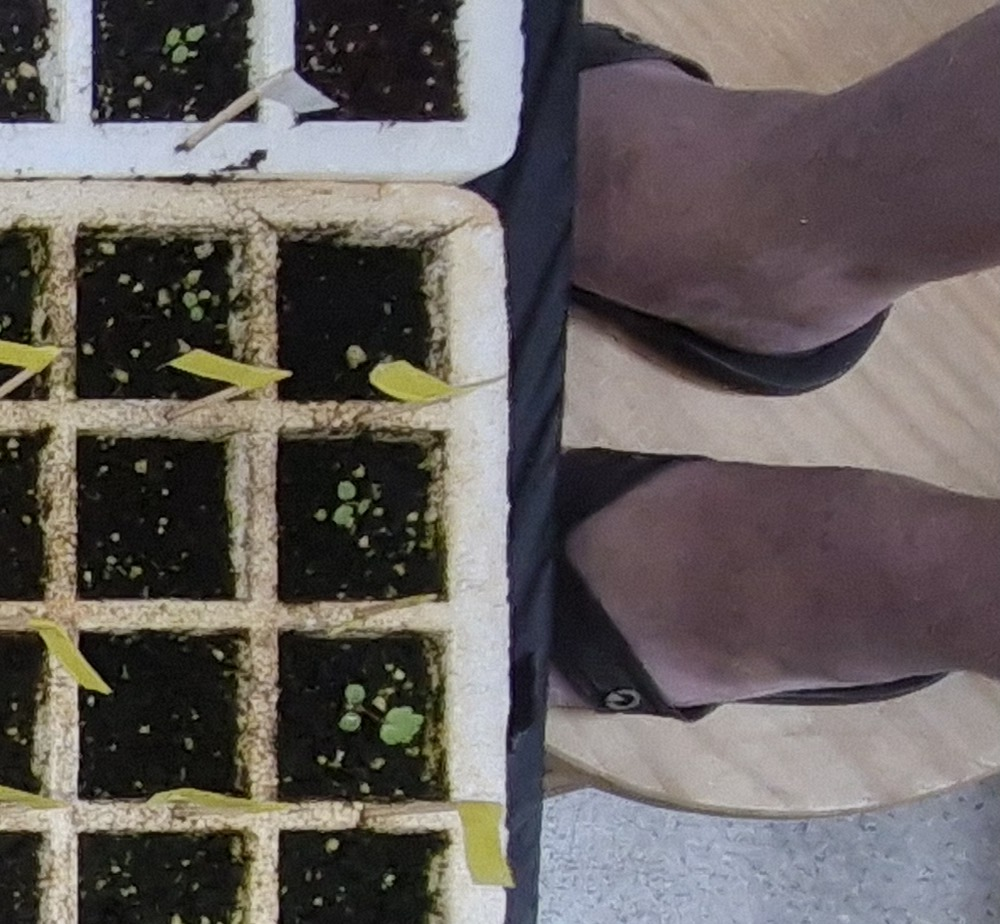Folha: (381, 705, 423, 746), (333, 505, 354, 525), (345, 684, 367, 703), (339, 713, 361, 730), (337, 482, 356, 500), (183, 293, 198, 308), (359, 500, 371, 515), (191, 307, 203, 321)
Germinacao: (338, 685, 425, 745), (333, 480, 371, 525), (184, 292, 204, 320)
